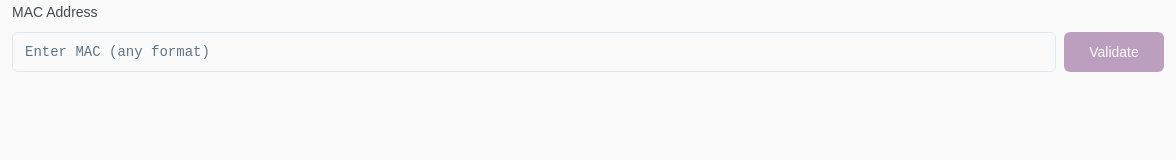
Test: MacValidator › validation flow › shows success message after validation
Type "AABBCCDDEEFF" into the field with placeholder "Enter MAC (any format)".
click(534, 52); type("AABBCCDDEEFF")  # box [12, 32, 1056, 72]
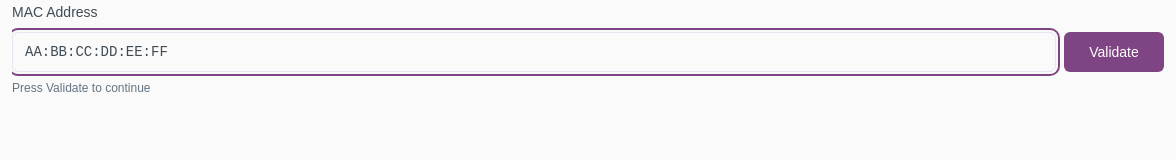
Click the button "Validate".
click(1114, 52)  # box [1064, 32, 1164, 72]
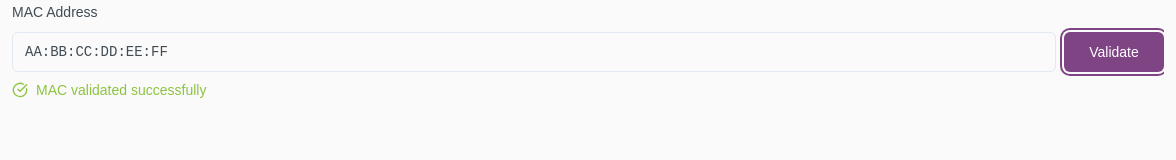
Expected: the text "MAC validated successfully" is shown, [36, 80, 206, 100]
